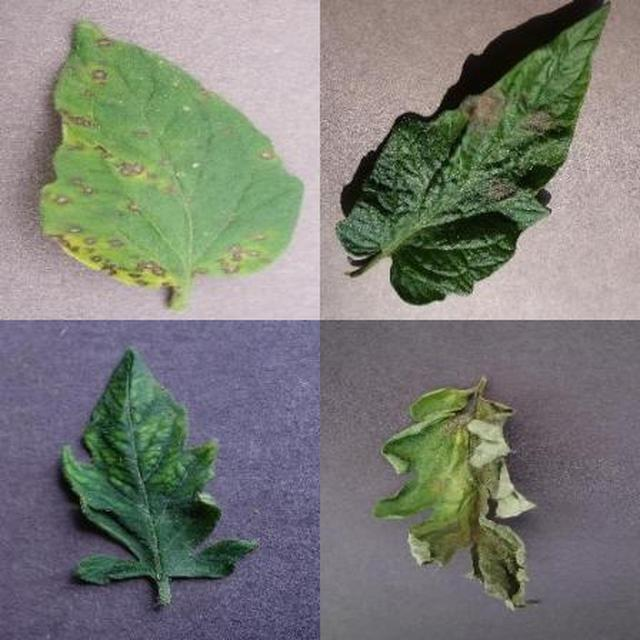Septoria Leaf: (231, 219, 640, 640)
